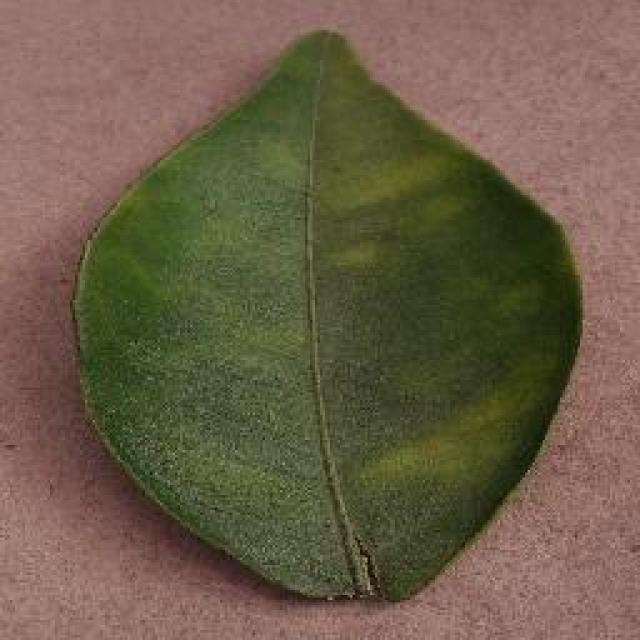Orange_Haunglongbing_Citrus_greening: (122, 115, 498, 539)
